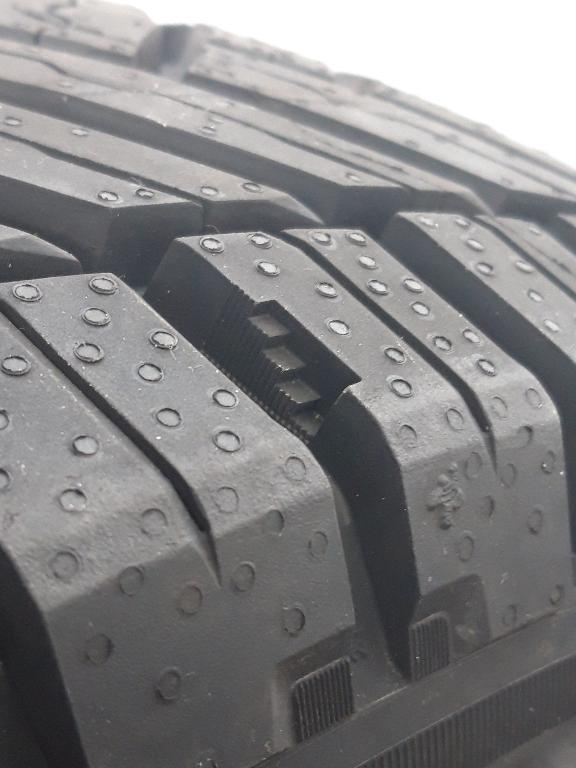temoin:100: (196, 281, 367, 452)
